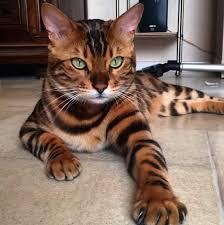Cat: (39, 0, 147, 98)
